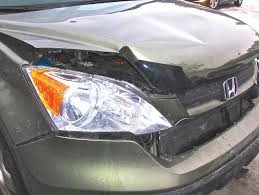Dent: (18, 37, 190, 100)
Scratch: (194, 122, 211, 132)
